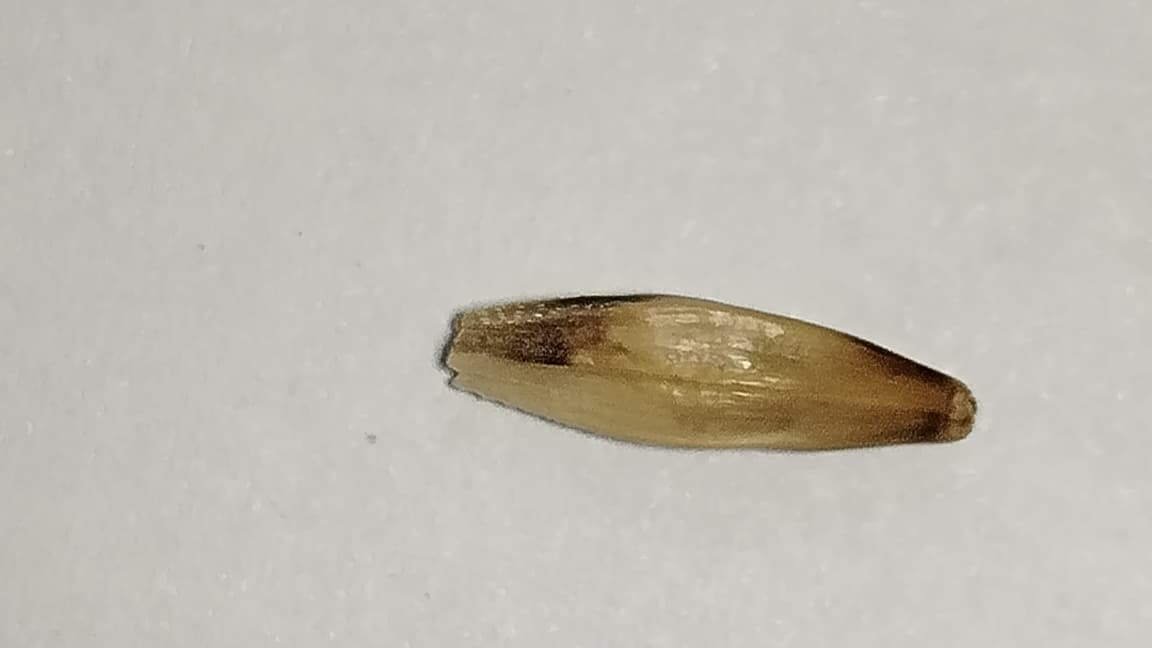healthy-50-40: (443, 295, 975, 450)
staindamage: (445, 297, 692, 377), (854, 338, 976, 444)
